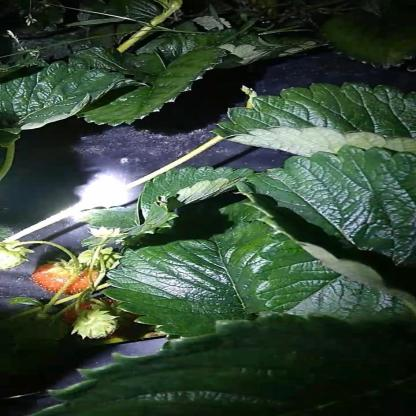ripe: (60, 297, 136, 341), (34, 261, 98, 294)
unripe: (0, 241, 32, 272)
